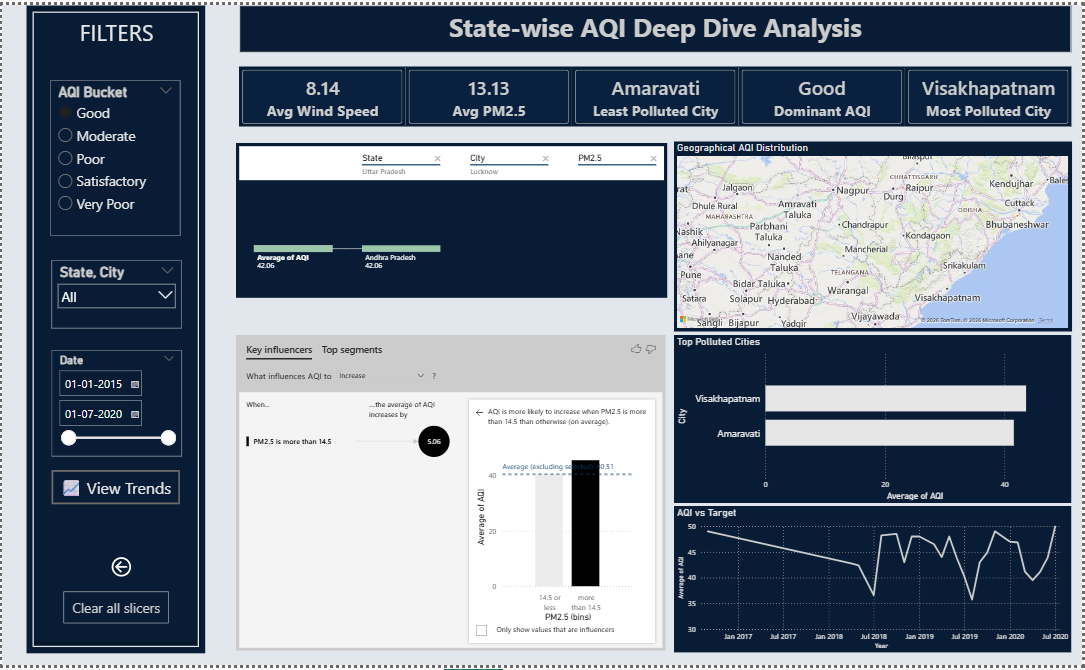

What the dashboard file says about the page in this screenshot:
{"tool":"powerbi","page":{"name":"Page 2","canvas":[1800,1100],"ordinal":1},"visuals":[{"type":"shape","box":[39.6,0,299.3,1081.1],"z":0},{"type":"lineChart","title":"AQI vs Target","fields":{"Y":["Avg(station_day.AQI)"],"Category":["DateTable.Date.Variation.Date Hierarchy.Year","DateTable.Date.Variation.Date Hierarchy.Month"]},"box":[1120,836,662,244],"z":1000},{"type":"slicer","fields":{"Values":["stations.State","stations.City"]},"box":[82.9,425.7,217.1,114.3],"z":2000},{"type":"slicer","fields":{"Values":["station_day.AQI_Bucket"]},"box":[80,125.7,217.1,260],"z":3000},{"type":"actionButton","box":[102,977.6,175.5,53.1],"z":4000},{"type":"cardVisual","fields":{"Data":["DateTable.Avg PM2.5"]},"box":[672.5,102.5,277.5,100],"z":5000},{"type":"cardVisual","fields":{"Data":["DateTable.Dominant AQI Category"]},"box":[1227.5,102.5,277.5,100],"z":6000},{"type":"cardVisual","fields":{"Data":["DateTable.Least Polluted City"]},"box":[950,102.5,277.5,100],"z":7000},{"type":"clusteredBarChart","title":"Top Polluted Cities","fields":{"Category":["stations.City"],"Y":["Avg(station_day.AQI)"]},"box":[1120,551.1,662.2,280],"z":8000},{"type":"textbox","box":[395,0,1387.5,80],"z":9000},{"type":"textbox","box":[81.6,14.8,217.7,64.3],"z":10000},{"type":"cardVisual","fields":{"Data":["DateTable.Most Polluted City"]},"box":[1505,102.5,277.5,100],"z":11000},{"type":"cardVisual","fields":{"Data":["Avg(Weather.wind_speed)"]},"box":[395,102.5,277.5,100],"z":12000},{"type":"slicer","fields":{"Values":["DateTable.Date"]},"box":[82.9,574.3,217.1,177.1],"z":13000},{"type":"filledMap","fields":{"Category":["stations.City"]},"box":[1120,226.7,662.2,315.6],"z":14000},{"type":"keyDriversVisual","fields":{"Target":["station_day.AQI"],"ExplainBy":["Weather.wind_speed","station_day.NO2","station_day.PM2.5","Weather.meantemp"]},"box":[389.5,550,715.8,526.3],"z":15000},{"type":"actionButton","box":[177.1,914.3,100,42.9],"z":16000},{"type":"decompositionTreeVisual","fields":{"Analyze":["Avg(station_day.AQI)"],"ExplainBy":["stations.State","stations.City","station_day.PM2.5","station_day.NO2","Weather.wind_speed"]},"box":[389.5,228.9,718.4,257.9],"z":17000},{"type":"actionButton","box":[82.9,774.3,214.3,57.1],"z":18000}]}

Visuals, with their boxes in screenshot pixels (x1, y1, x2, y2), scaled from the page's 1800x1100 canvas onto the 1085x670 screenshot:
shape: 24 0 204 658
"AQI vs Target" lineChart: 675 509 1074 658
slicer - stations.State x stations.City: 50 259 181 329
slicer - station_day.AQI_Bucket: 48 77 179 235
actionButton: 61 595 167 628
cardVisual - DateTable.Avg PM2.5: 405 62 573 123
cardVisual - DateTable.Dominant AQI Category: 740 62 907 123
cardVisual - DateTable.Least Polluted City: 573 62 740 123
"Top Polluted Cities" clusteredBarChart: 675 336 1074 506
textbox: 238 0 1074 49
textbox: 49 9 180 48
cardVisual - DateTable.Most Polluted City: 907 62 1074 123
cardVisual - Avg(Weather.wind_speed): 238 62 405 123
slicer - DateTable.Date: 50 350 181 458
filledMap - stations.City: 675 138 1074 330
keyDriversVisual - station_day.AQI x Weather.wind_speed: 235 335 666 656
actionButton: 107 557 167 583
decompositionTreeVisual - Avg(station_day.AQI) x stations.State: 235 139 668 297
actionButton: 50 472 179 506
